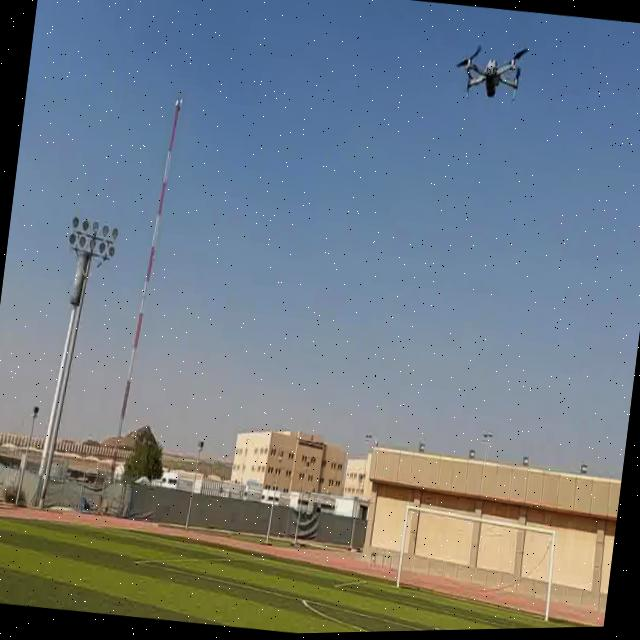drone: (451, 36, 535, 117)
